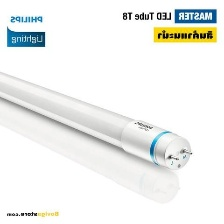light_bulb: (0, 58, 200, 172)
